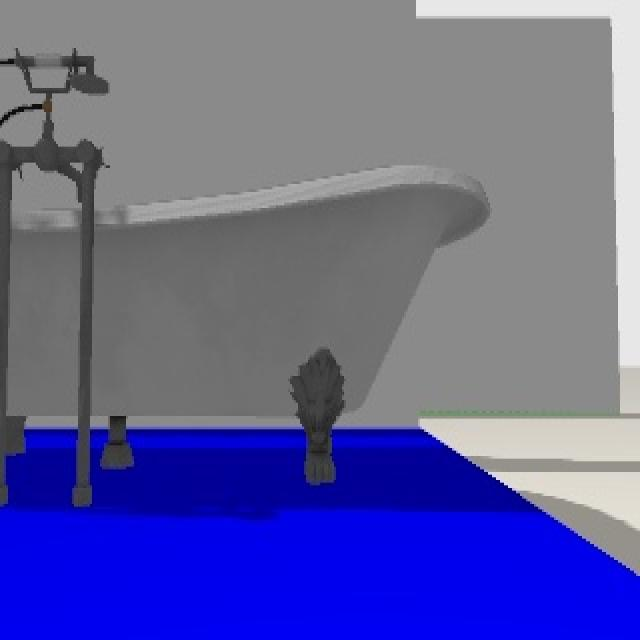bathtub: (1, 49, 492, 508)
